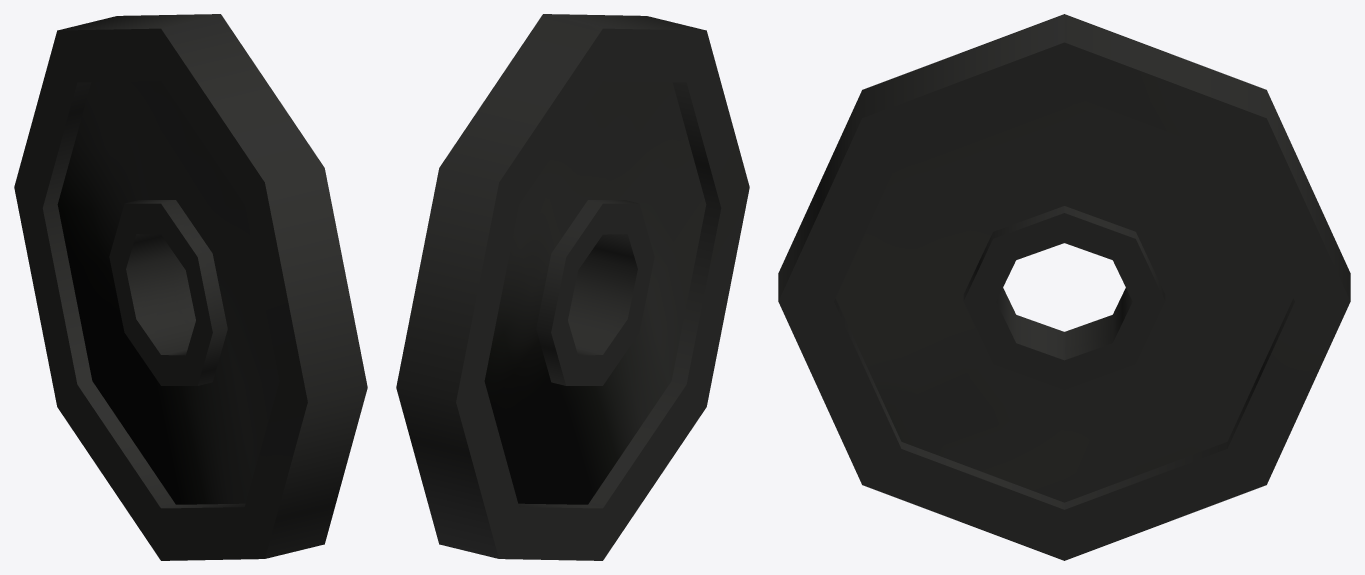
File: plate-tree.glb
3 renders of one model, left to right at view 1: azimuth 30°, elevation 25°; view 2: azimuth 150°, elevation 25°; view 3: azimuth 270°, elevation 25°, orthographic. The views are drawn at different scales.
Visible parts, largest first — view 1: weight_plate_1_gym_environment_0; view 2: weight_plate_1_gym_environment_0; view 3: weight_plate_1_gym_environment_0.
Part boxes in pixels (box(x1,y1,x2,y2)): weight_plate_1_gym_environment_0: box(14, 14, 367, 560); weight_plate_1_gym_environment_0: box(396, 14, 749, 560); weight_plate_1_gym_environment_0: box(778, 14, 1350, 560).
Size of the model in its own units: 0.02 by 0.17 by 0.17.
Materials: 1 (1 with a texture image).
